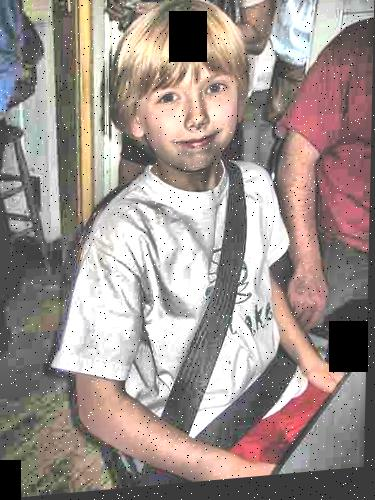seatbelt: (152, 168, 271, 461)
